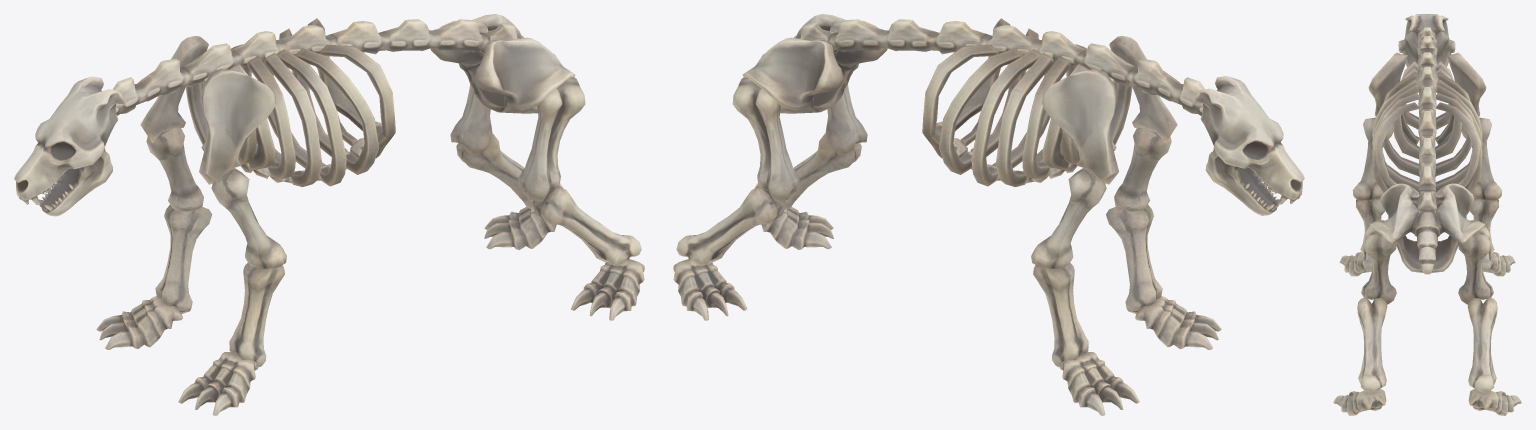
File: bear.glb
3 renders of one model, left to right at view 1: azimuth 30°, elevation 25°; view 2: azimuth 150°, elevation 25°; view 3: azimuth 270°, elevation 25°, orthographic. The views are drawn at different scales.
Parts seen in each view (by area): view 1: Plane.013, Plane.015, Plane.012, Plane.005, Plane.010, Plane.029, Plane.003, Plane.002, Plane.007, Plane.024, Plane.004, Plane.006 (+15 smaller); view 2: Plane.013, Plane.015, Plane.012, Plane.001, Plane.011, Plane.030, Plane.002, Plane.003, Plane.008, Plane.024, Plane.006, Plane.004 (+15 smaller); view 3: Plane.012, Plane.013, Plane.029, Plane.030, Plane.015, Plane.010, Plane.011, Plane.007, Plane.008, Plane.005, Plane.001, Plane.027 (+18 smaller).
Boxes of the visible parts, box(x1,y1,x2,y2) form: Plane.013: box(112, 19, 517, 115); Plane.015: box(14, 76, 125, 216); Plane.012: box(430, 14, 575, 113); Plane.005: box(199, 68, 275, 184); Plane.010: box(518, 77, 585, 201); Plane.029: box(533, 185, 641, 265); Plane.003: box(155, 204, 212, 313); Plane.002: box(229, 263, 284, 367); Plane.007: box(211, 168, 286, 268); Plane.024: box(263, 49, 346, 186); Plane.004: box(178, 352, 258, 415); Plane.006: box(96, 296, 182, 349); Plane.013: box(800, 19, 1204, 115); Plane.015: box(1193, 76, 1304, 215); Plane.012: box(742, 14, 887, 113); Plane.001: box(1042, 68, 1118, 184); Plane.011: box(732, 77, 799, 201); Plane.030: box(676, 185, 785, 265); Plane.002: box(1106, 204, 1162, 313); Plane.003: box(1033, 263, 1088, 367); Plane.008: box(1031, 168, 1106, 268); Plane.024: box(971, 49, 1054, 186); Plane.006: box(1060, 352, 1139, 415); Plane.004: box(1135, 296, 1221, 349); Plane.012: box(1369, 183, 1485, 274); Plane.013: box(1416, 27, 1438, 212); Plane.029: box(1357, 297, 1387, 392); Plane.030: box(1467, 297, 1497, 392); Plane.015: box(1398, 14, 1455, 69); Plane.010: box(1361, 227, 1398, 304); Plane.011: box(1456, 227, 1493, 304); Plane.007: box(1352, 117, 1393, 200); Plane.008: box(1461, 117, 1502, 200); Plane.005: box(1368, 52, 1407, 116); Plane.001: box(1447, 52, 1486, 116); Plane.027: box(1373, 102, 1418, 209).
Size of the model in its own units: 3.78 by 1.93 by 1.41.
1 material, 1 textured.
